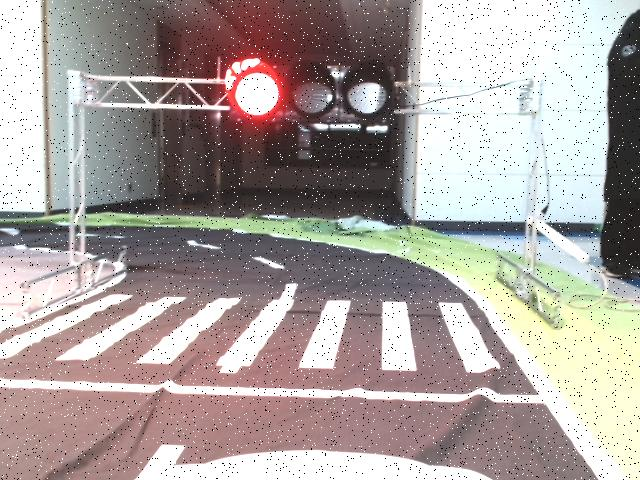crosswalk: (2, 293, 502, 372)
traffic light-red-: (224, 60, 399, 126)
